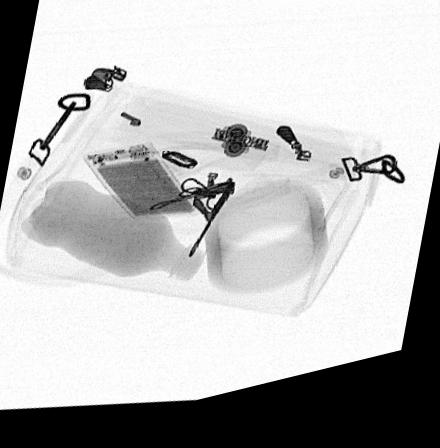Powerbank: (81, 148, 201, 227)
